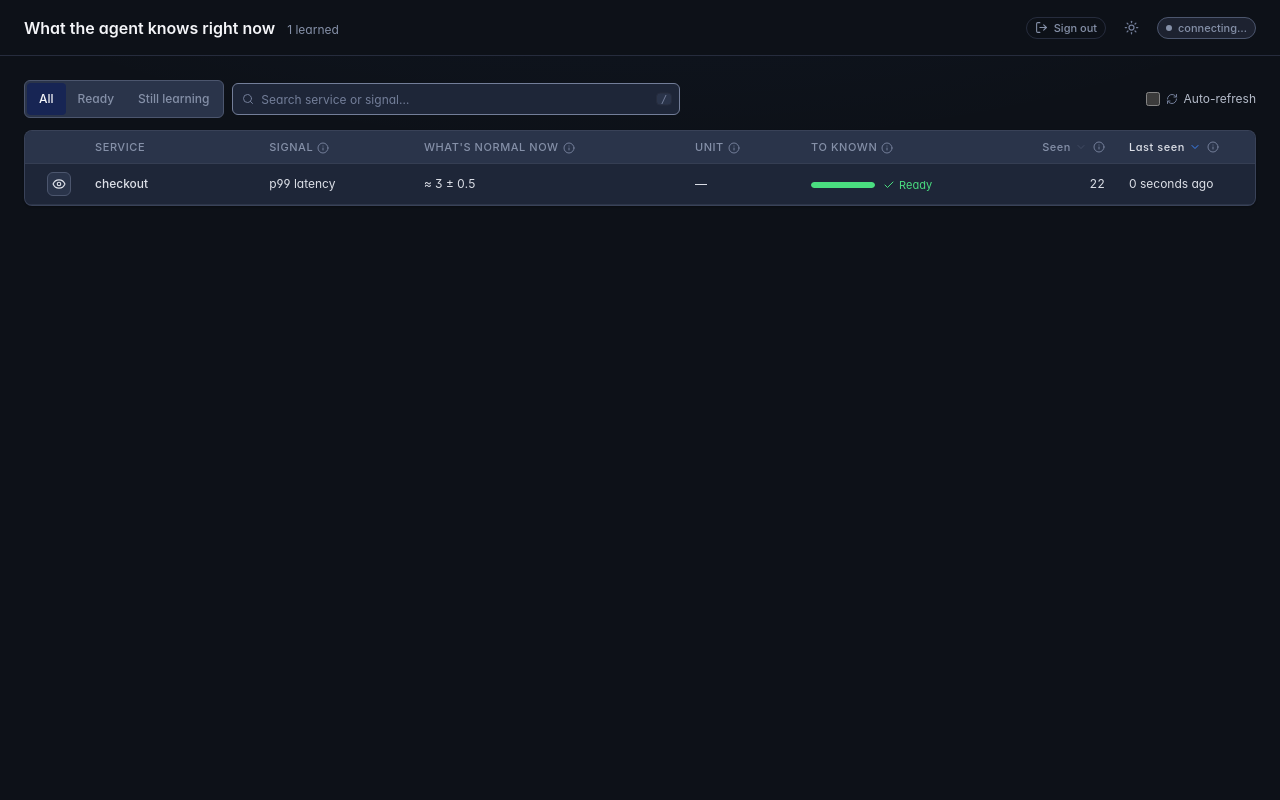
Scenario: LearnedSignalsView — Source label is driven off row.source, not the type › renders the '—' placeholder for a raw gauge with an empty unit, without breaking
Click the button titled "View details". click: (59, 184)
box: [47,172,71,196]
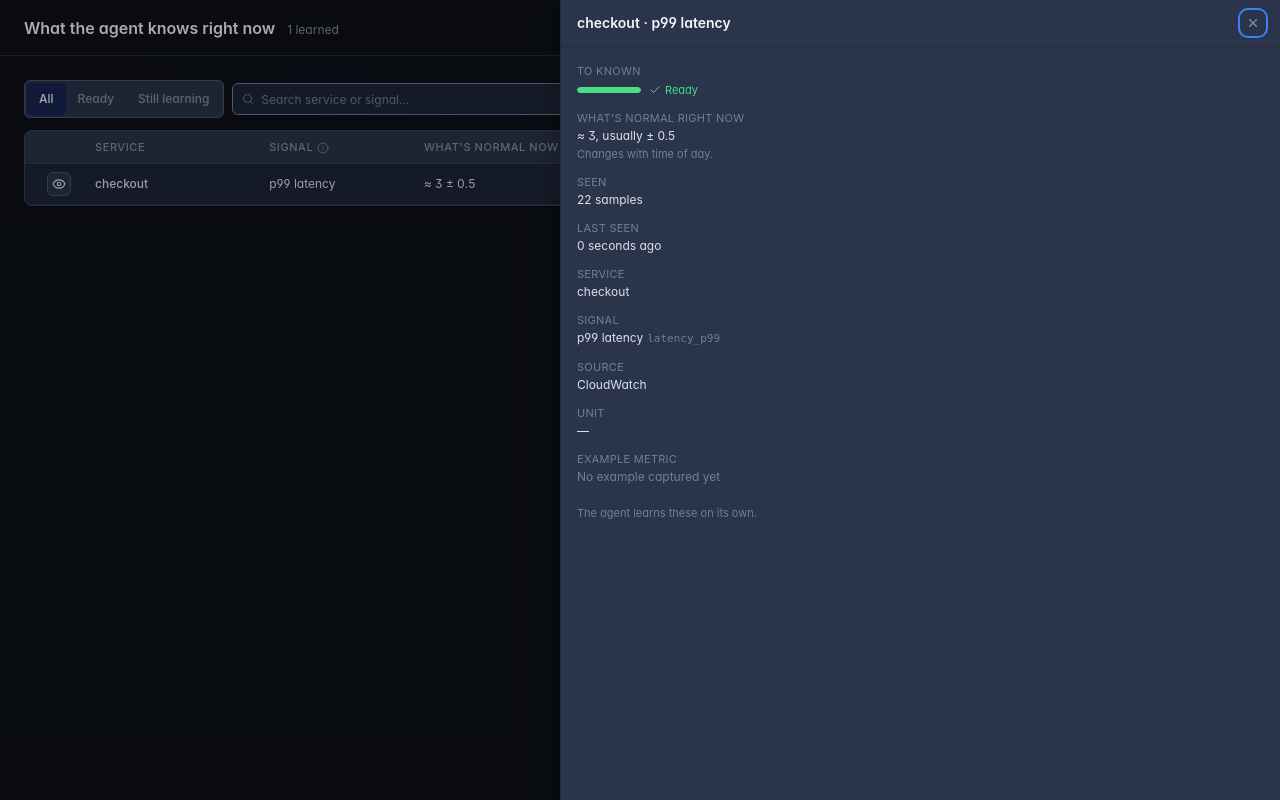
Check: the text "CloudWatch" is shown, box [577,377,647,392]
Check: the text "—" is shown, box [577,423,589,438]
